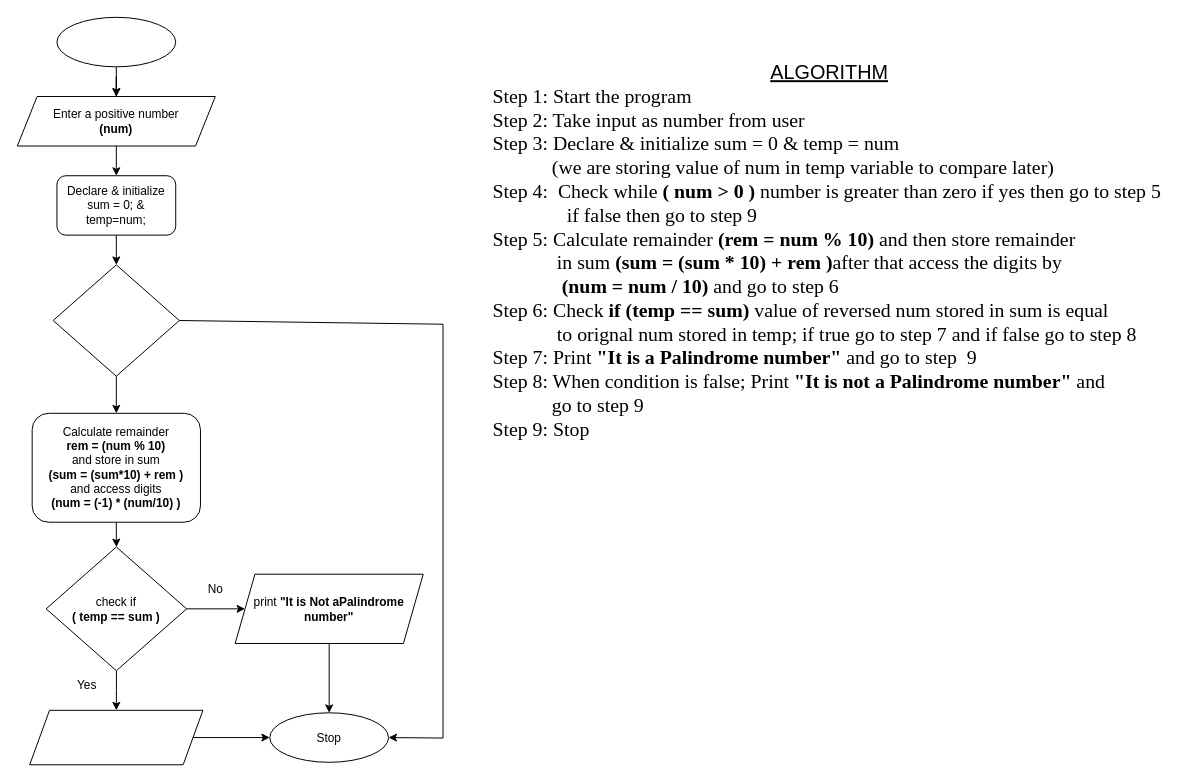
This 1193x782 diagram has some shape labels left out. Each missing label, with the centre of its shape:
Check while ( num > 0 ): point 115,320
print "It is a Palindrome number": point 116,737
Start: point 116,41
